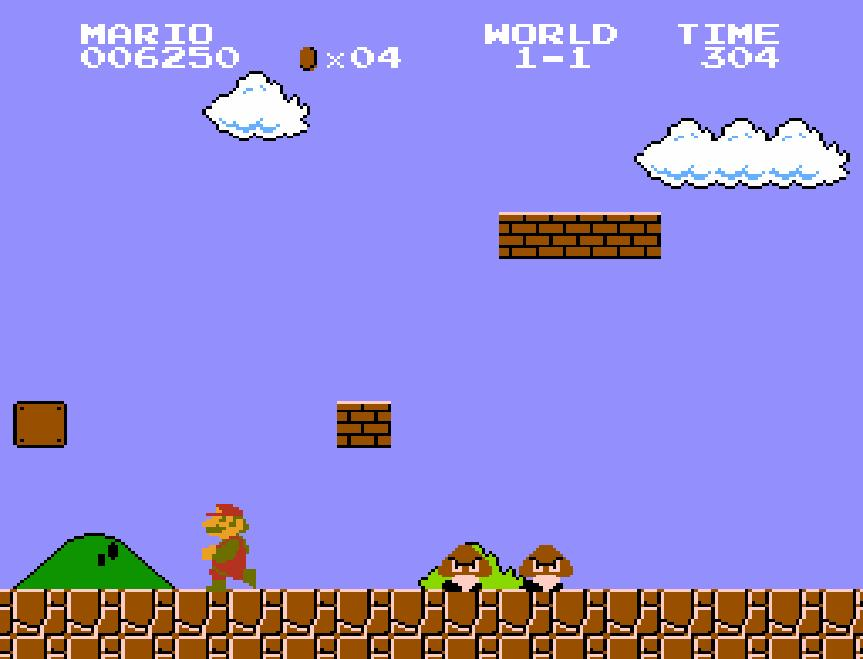big_mario: (200, 496, 258, 594)
